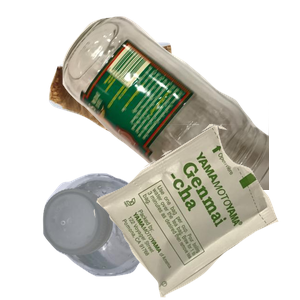cardboard: (46, 40, 226, 179)
glass: (60, 14, 300, 194)
plastic: (40, 170, 187, 300)
trash: (91, 124, 300, 300)
